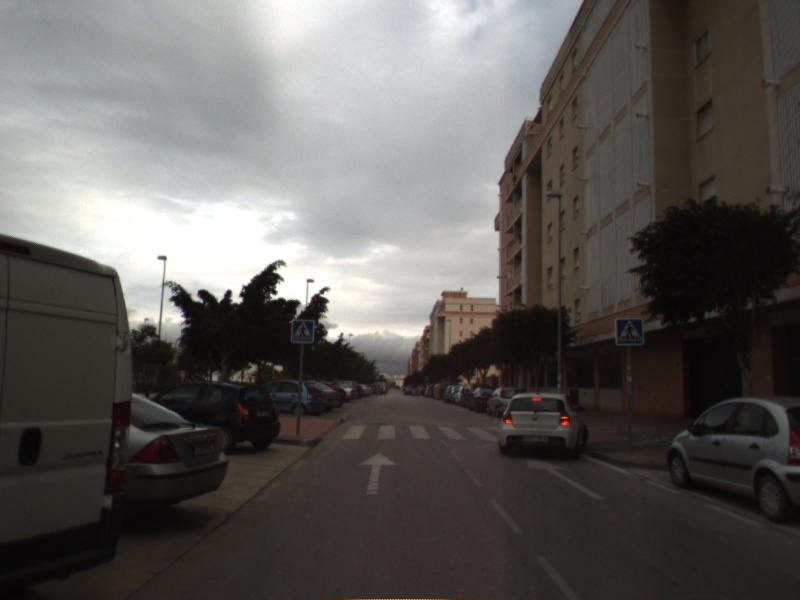STRAIGHT: (525, 457, 607, 502), (356, 450, 399, 497)
